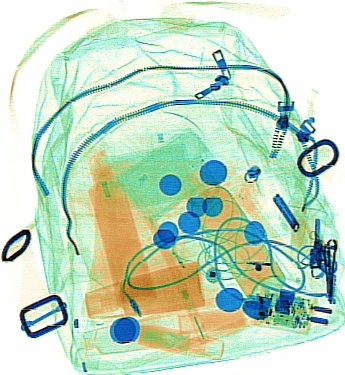pressure: (169, 156, 286, 307)
